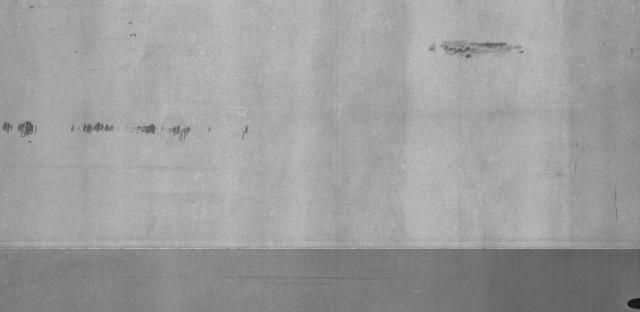inclusion: (427, 36, 528, 62)
punching_hole: (622, 294, 640, 311)
rolled_pit: (0, 118, 262, 144)
welding_line: (1, 236, 640, 260)
